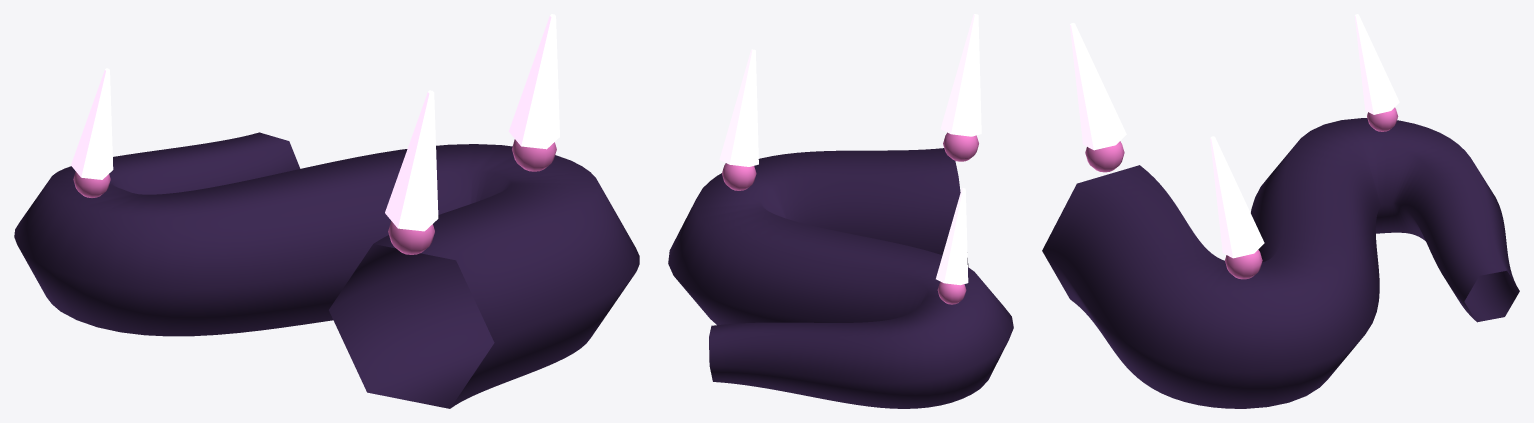
File: SM_Keeper_Apep_Body_F22.fbx
3 views of the same model, side by side, from view 1: azimuth 30°, elevation 25°; view 2: azimuth 150°, elevation 25°; view 3: azimuth 270°, elevation 25° (orthographic). The views are drawn at different scales.
Visible parts, largest first — view 1: SM_Keeper_Apep_Body_F22; view 2: SM_Keeper_Apep_Body_F22; view 3: SM_Keeper_Apep_Body_F22.
Boxes of the visible parts, <box> form: SM_Keeper_Apep_Body_F22: <box>14,14,639,408</box>; SM_Keeper_Apep_Body_F22: <box>668,14,1013,408</box>; SM_Keeper_Apep_Body_F22: <box>1042,14,1519,408</box>.
Size of the model in its own units: 6.55 by 4.36 by 6.54.
